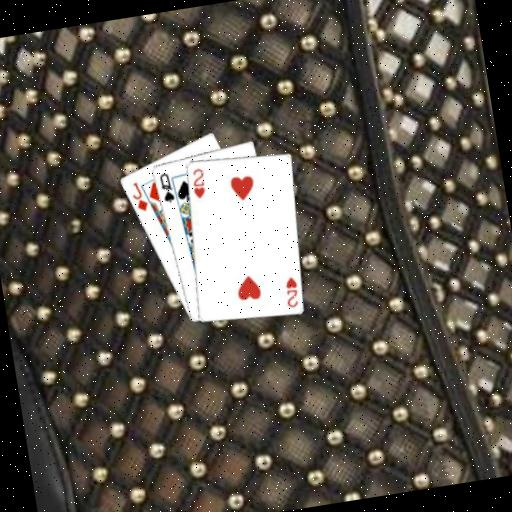2H: (279, 272, 301, 309), (186, 164, 208, 200)
JD: (127, 178, 150, 214)
QS: (155, 169, 176, 205)
